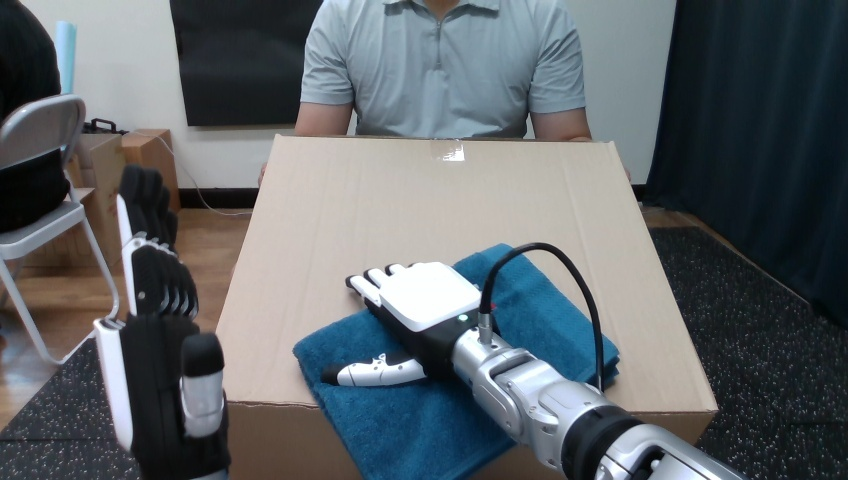left robot arm: (322, 243, 743, 479)
left robot hand: (322, 243, 743, 479)
right robot arm: (322, 243, 743, 479)
right robot hand: (322, 243, 743, 479)
